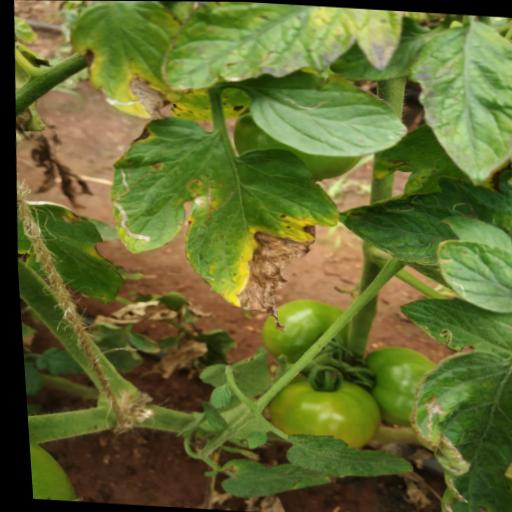Early Blight: (94, 111, 346, 337)
Leaf_Miner: (105, 163, 153, 247), (414, 391, 448, 438), (275, 89, 342, 111), (426, 323, 471, 352)
